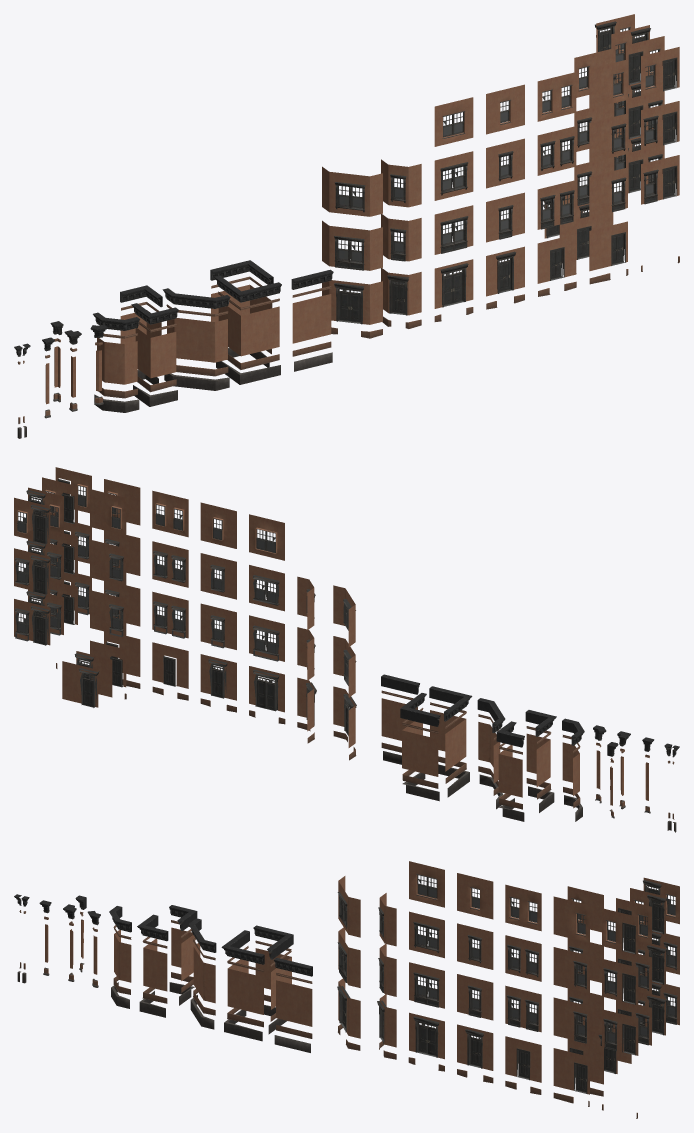
Rendered from modular_urban_apartments_facade.glb.
3 views of the same model, one above another, from view 1: azimuth 30°, elevation 25°; view 2: azimuth 150°, elevation 25°; view 3: azimuth 330°, elevation 25° (orthographic). The views are drawn at different scales.
Visible parts, largest first — view 1: wall_standard_corner_large_01, wall_standard_angled_large_01, wall_window_angled_large_02, wall_standard_corner_small_01, wall_standard_standard_01, wall_window_angled_large_01, wall_standard_angled_small_01, wall_window_offset_small_05, wall_window_centered_small_03, wall_window_centered_double_03, wall_window_angled_small_02, wall_window_centered_small_02 (+39 smaller); view 2: wall_standard_corner_large_02, wall_standard_corner_large_01, wall_window_offset_small_06, wall_window_centered_small_03, wall_window_centered_small_01, wall_window_offset_small_02, wall_window_centered_small_02, wall_window_offset_small_04, wall_door_centered_small_02, wall_window_centered_double_03, wall_standard_corner_small_01, wall_standard_corner_small_02 (+41 smaller); view 3: wall_standard_corner_large_01, wall_standard_standard_01, wall_window_offset_small_05, wall_window_centered_small_03, wall_window_centered_small_02, wall_window_offset_small_03, wall_window_centered_double_03, wall_window_centered_small_01, wall_window_offset_small_01, wall_door_centered_small_02, wall_door_offset_small_01, wall_standard_corner_small_01 (+54 smaller).
Boxes of the visible parts, <box> form: wall_standard_corner_large_01: <box>218,306,279,356</box>; wall_standard_angled_large_01: <box>167,318,227,362</box>; wall_window_angled_large_02: <box>322,166,382,216</box>; wall_standard_corner_small_01: <box>135,328,176,378</box>; wall_standard_standard_01: <box>292,294,331,343</box>; wall_window_angled_large_01: <box>322,220,382,270</box>; wall_standard_angled_small_01: <box>97,338,137,384</box>; wall_window_offset_small_05: <box>589,59,627,109</box>; wall_window_centered_small_03: <box>486,84,524,134</box>; wall_window_centered_double_03: <box>537,72,576,121</box>; wall_window_angled_small_02: <box>381,159,421,207</box>; wall_window_centered_small_02: <box>486,138,524,188</box>; wall_standard_corner_large_02: <box>402,721,438,776</box>; wall_standard_corner_large_01: <box>430,710,466,771</box>; wall_window_offset_small_06: <box>90,489,126,535</box>; wall_window_centered_small_03: <box>200,502,236,548</box>; wall_window_centered_small_01: <box>200,603,236,649</box>; wall_window_offset_small_02: <box>90,590,126,636</box>; wall_window_centered_small_02: <box>200,553,236,599</box>; wall_window_offset_small_04: <box>90,539,126,585</box>; wall_door_centered_small_02: <box>152,642,188,688</box>; wall_window_centered_double_03: <box>152,490,188,537</box>; wall_standard_corner_small_01: <box>526,733,550,786</box>; wall_standard_corner_small_02: <box>498,745,522,797</box>; wall_standard_corner_large_01: <box>227,959,263,1014</box>; wall_standard_standard_01: <box>276,980,312,1026</box>; wall_window_offset_small_05: <box>553,896,589,942</box>; wall_window_centered_small_03: <box>457,873,493,919</box>; wall_window_centered_small_02: <box>457,923,493,969</box>; wall_window_offset_small_03: <box>553,947,589,993</box>; wall_window_centered_double_03: <box>505,884,541,931</box>; wall_window_centered_small_01: <box>457,974,493,1020</box>; wall_window_offset_small_01: <box>553,997,589,1043</box>; wall_door_centered_small_02: <box>505,1036,541,1082</box>; wall_door_offset_small_01: <box>553,1048,589,1094</box>; wall_standard_corner_small_01: <box>143,938,167,991</box>.
Size of the model in its own units: 51.53 by 17 by 6.67.
Materials: 5 (5 with a texture image).
